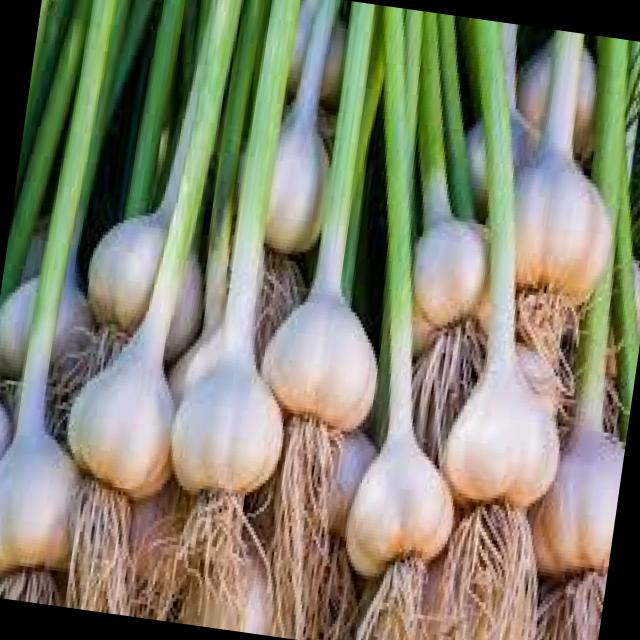Garlic: (471, 140, 637, 326), (334, 402, 484, 590), (149, 318, 309, 490), (266, 259, 404, 437), (364, 190, 532, 332), (58, 328, 180, 518), (232, 104, 367, 265), (440, 376, 584, 525), (77, 190, 221, 334), (0, 401, 97, 566)
